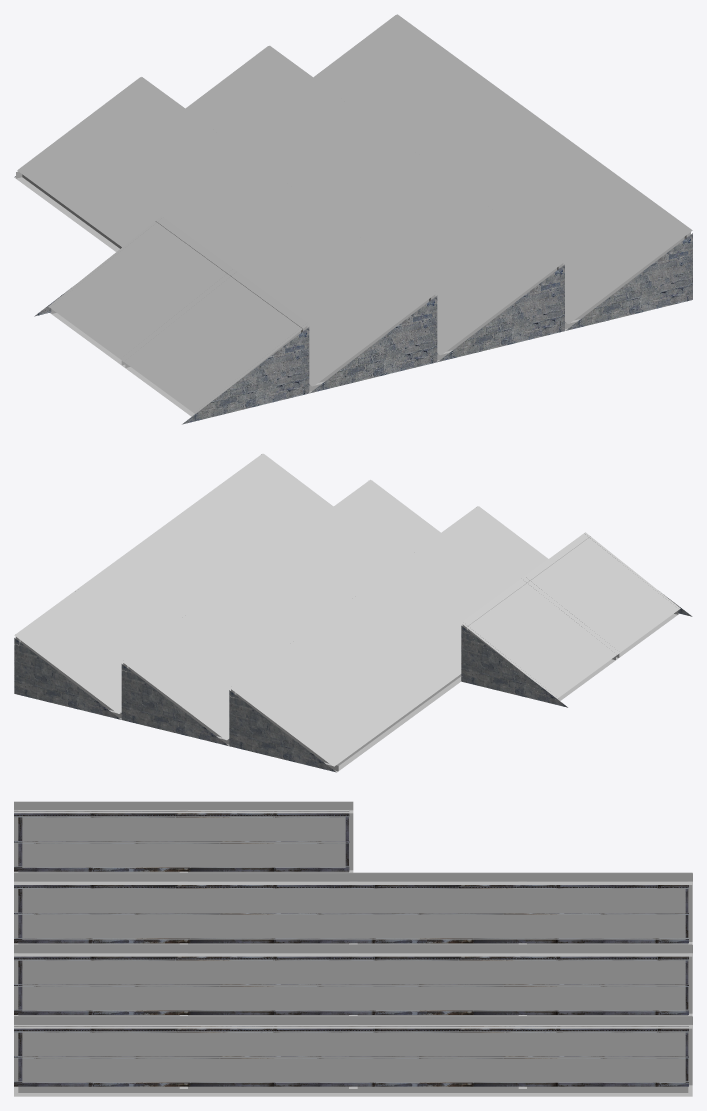
Rendered from factory_roof_02.DAE.
3 renders of one model, top to bottom at view 1: azimuth 30°, elevation 25°; view 2: azimuth 150°, elevation 25°; view 3: azimuth 270°, elevation 25°, orthographic. The views are drawn at different scales.
Visible parts, largest first — view 1: Box113, Object094, Object074, Object072; view 2: Box113, Object094, Object074, Object072; view 3: Plane004, Object072, Box116, Box113.
Part boxes in pixels (x1=…): Box113: x1=17, y1=15, x2=690, y2=386; Object094: x1=48, y1=14, x2=692, y2=413; Object074: x1=14, y1=176, x2=692, y2=424; Object072: x1=14, y1=101, x2=690, y2=416; Box113: x1=15, y1=454, x2=548, y2=766; Object094: x1=14, y1=453, x2=680, y2=766; Object074: x1=14, y1=594, x2=692, y2=772; Object072: x1=14, y1=454, x2=679, y2=772; Plane004: x1=22, y1=816, x2=685, y2=1082; Object072: x1=14, y1=802, x2=692, y2=1096; Box116: x1=14, y1=811, x2=688, y2=1086; Box113: x1=14, y1=872, x2=692, y2=1016.
Size of the model in its own units: 16 by 2.08 by 16.01.
